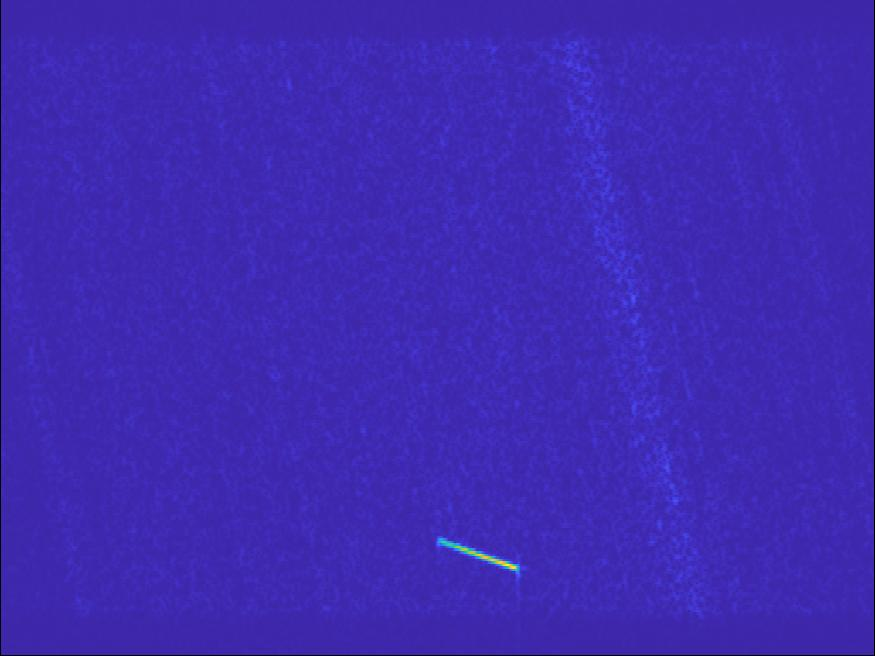Interference: (402, 369, 633, 565), (489, 550, 622, 656), (796, 296, 875, 359)
